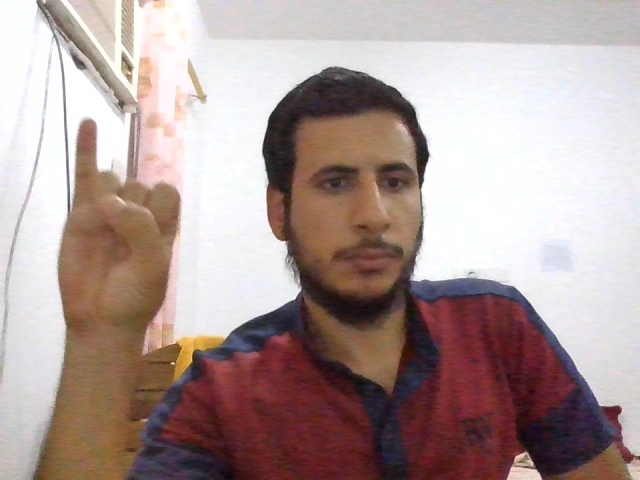One: (59, 119, 181, 324)
